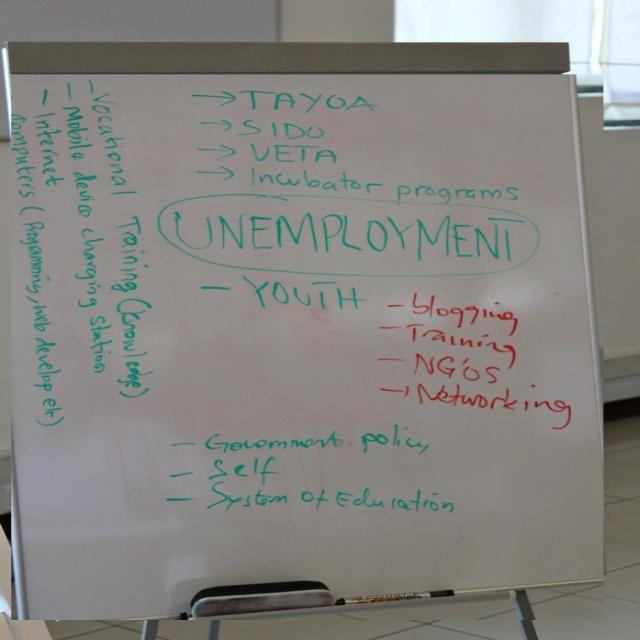Whiteboard: (0, 72, 603, 621)
